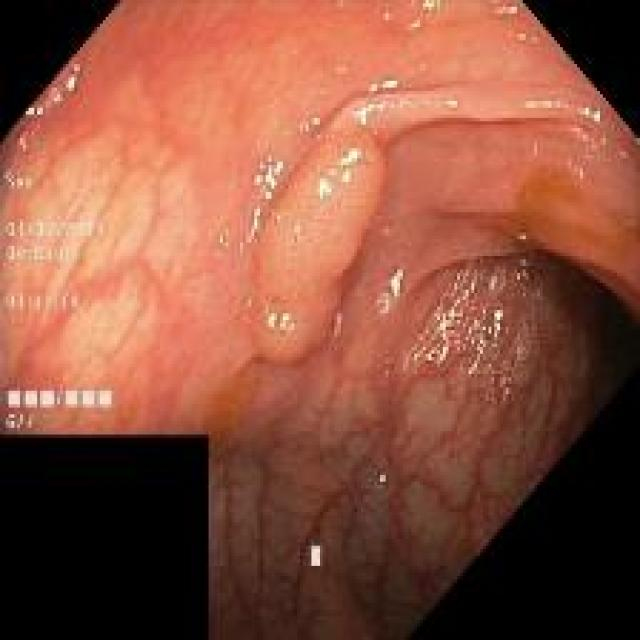Polyps: (248, 125, 384, 365)
